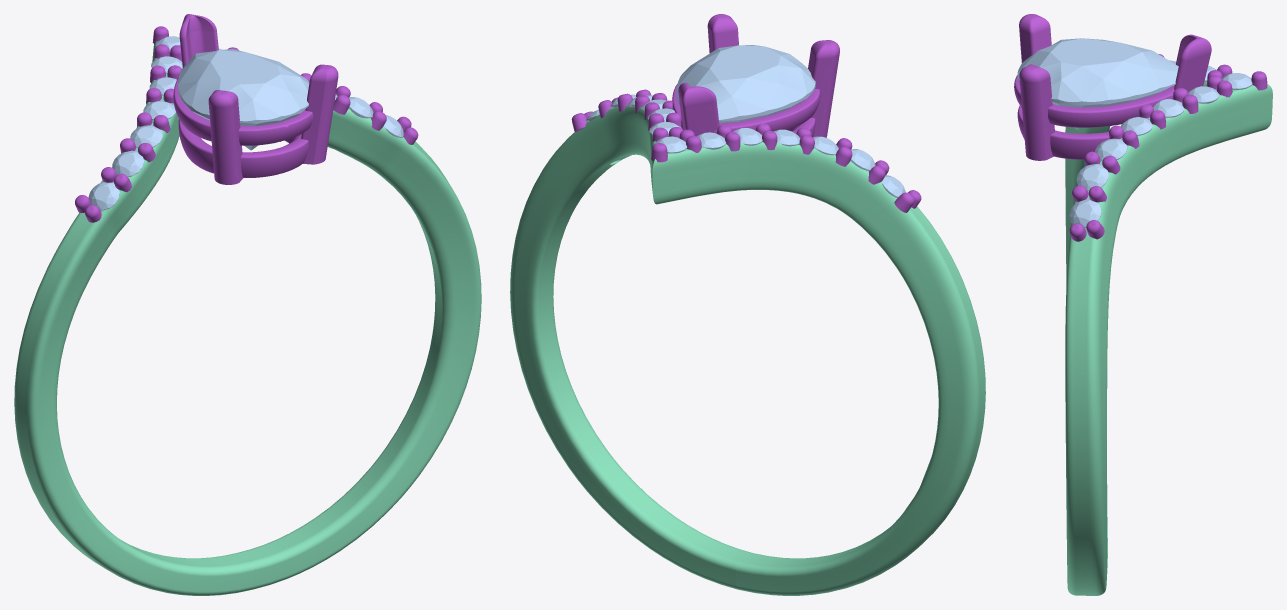
3 views of the same model, side by side, from view 1: azimuth 30°, elevation 25°; view 2: azimuth 150°, elevation 25°; view 3: azimuth 270°, elevation 25° (orthographic).
Visible parts, largest first — view 1: anillo 03.3dm, Diamond_Pear, Head Prong (×3), Head Rail (×2), Diamond_Round (×2); view 2: anillo 03.3dm, Diamond_Pear, Head Prong (×3), Head Rail; view 3: anillo 03.3dm, Diamond_Pear, Head Prong (×3), Head Rail (×2), Diamond_Round (×7).
Boxes of the visible parts, x1=… form: anillo 03.3dm: x1=14, y1=41, x2=481, y2=595; Diamond_Pear: x1=178, y1=49, x2=309, y2=150; Head Prong (×3): x1=179, y1=14, x2=338, y2=184; Head Rail (×2): x1=173, y1=77, x2=313, y2=177; Diamond_Round (×2): x1=88, y1=150, x2=143, y2=210; anillo 03.3dm: x1=510, y1=105, x2=985, y2=595; Diamond_Pear: x1=676, y1=45, x2=815, y2=123; Head Prong (×3): x1=678, y1=14, x2=839, y2=137; Head Rail: x1=672, y1=84, x2=820, y2=133; anillo 03.3dm: x1=1065, y1=81, x2=1272, y2=595; Diamond_Pear: x1=1017, y1=38, x2=1178, y2=129; Head Prong (×3): x1=1019, y1=14, x2=1211, y2=160; Head Rail (×2): x1=1014, y1=75, x2=1174, y2=159; Diamond_Round (×7): x1=1069, y1=73, x2=1252, y2=227.
Size of the model in its own units: 2.55 by 2.82 by 1.24.
